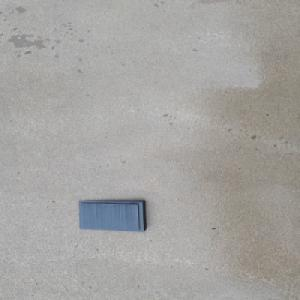PlasticPart: (77, 199, 148, 232)
